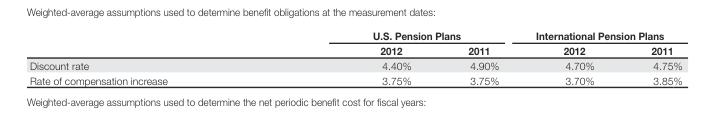table: (28, 29, 681, 85)
table column: (28, 29, 269, 85), (269, 29, 439, 85), (516, 29, 622, 85), (439, 29, 516, 85), (622, 29, 681, 85)
table column header: (28, 29, 681, 57)
table row: (28, 42, 681, 57), (28, 57, 681, 72), (28, 29, 681, 42), (28, 72, 681, 85)
table spanning cell: (269, 29, 516, 42), (516, 29, 681, 42)
